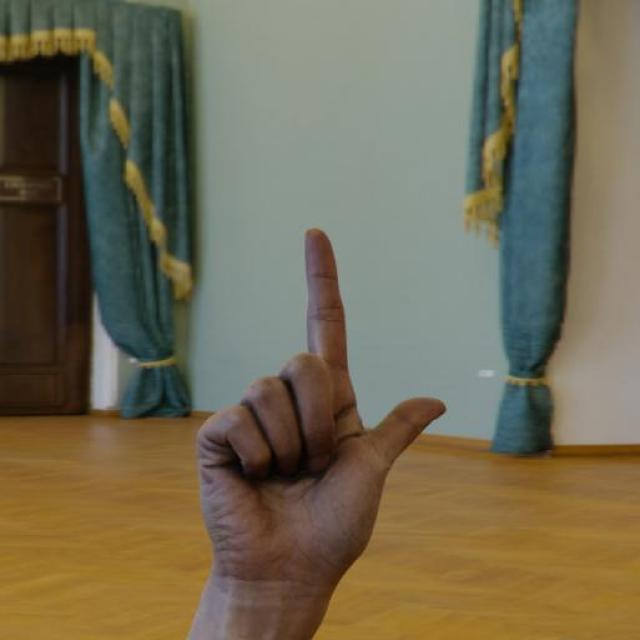L: (158, 181, 463, 593)
